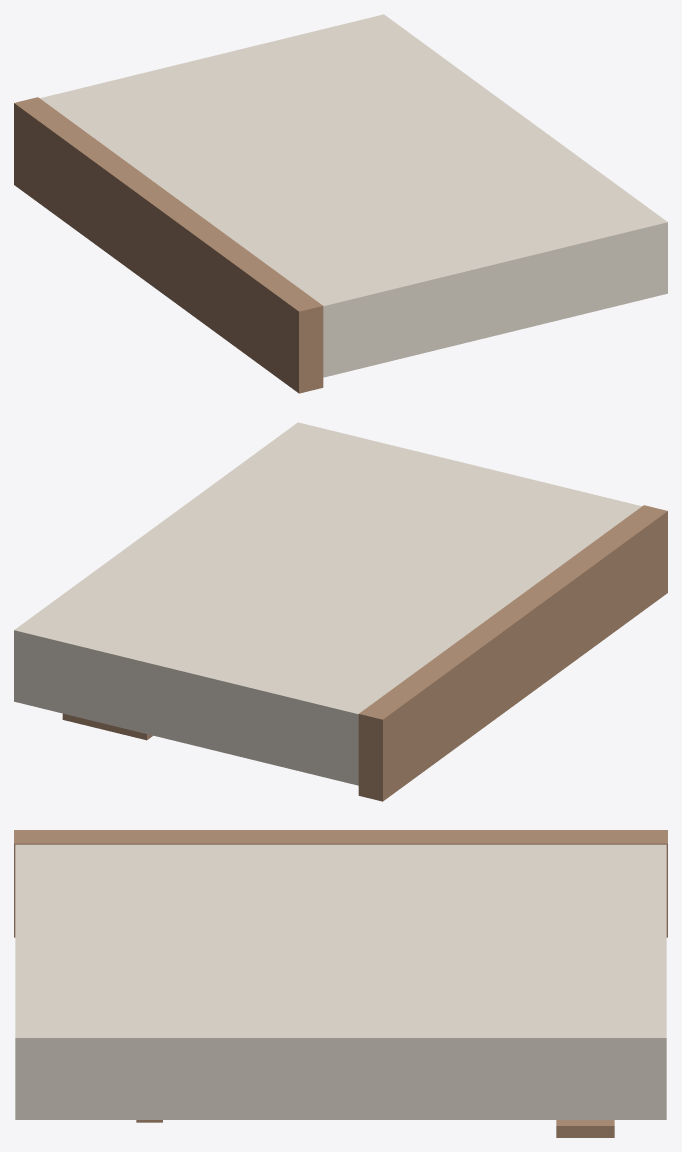
File: labyrinth.glb
The picture shows the model from 3 angles, top to bottom: view 1: azimuth 30°, elevation 25°; view 2: azimuth 150°, elevation 25°; view 3: azimuth 270°, elevation 25°; orthographic projection. The views are drawn at different scales.
Visible parts, largest first — view 1: Labyrinth carton, Labyrinth spine; view 2: Labyrinth carton, Labyrinth spine, Labyrinth edition chip; view 3: Labyrinth carton, Labyrinth spine, Labyrinth edition chip.
Part boxes in pixels (left/top/right/bottom): Labyrinth carton: left=40, top=14, right=667, bottom=377; Labyrinth spine: left=14, top=97, right=323, bottom=393; Labyrinth carton: left=14, top=422, right=641, bottom=785; Labyrinth spine: left=358, top=505, right=667, bottom=801; Labyrinth edition chip: left=62, top=713, right=152, bottom=740; Labyrinth carton: left=15, top=844, right=666, bottom=1119; Labyrinth spine: left=14, top=830, right=667, bottom=937; Labyrinth edition chip: left=556, top=1120, right=614, bottom=1137.
Bounding box in the file's own units: 1.84 × 0.4825 × 2.46.
